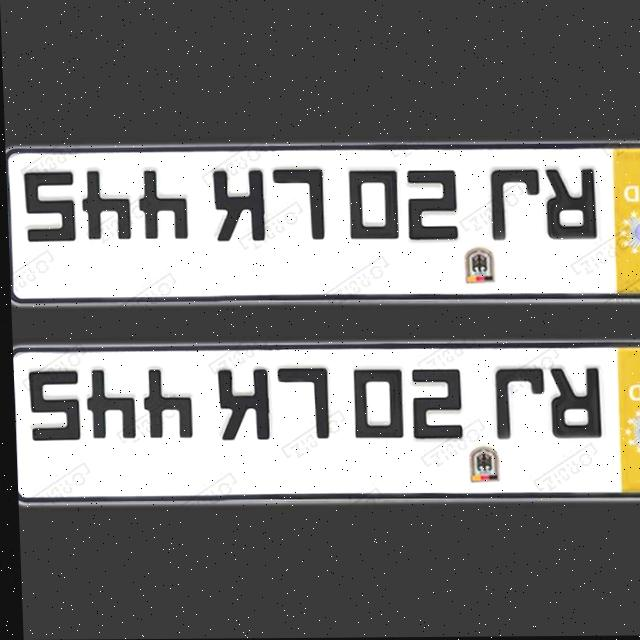plate: (4, 140, 640, 308), (10, 340, 640, 508)
